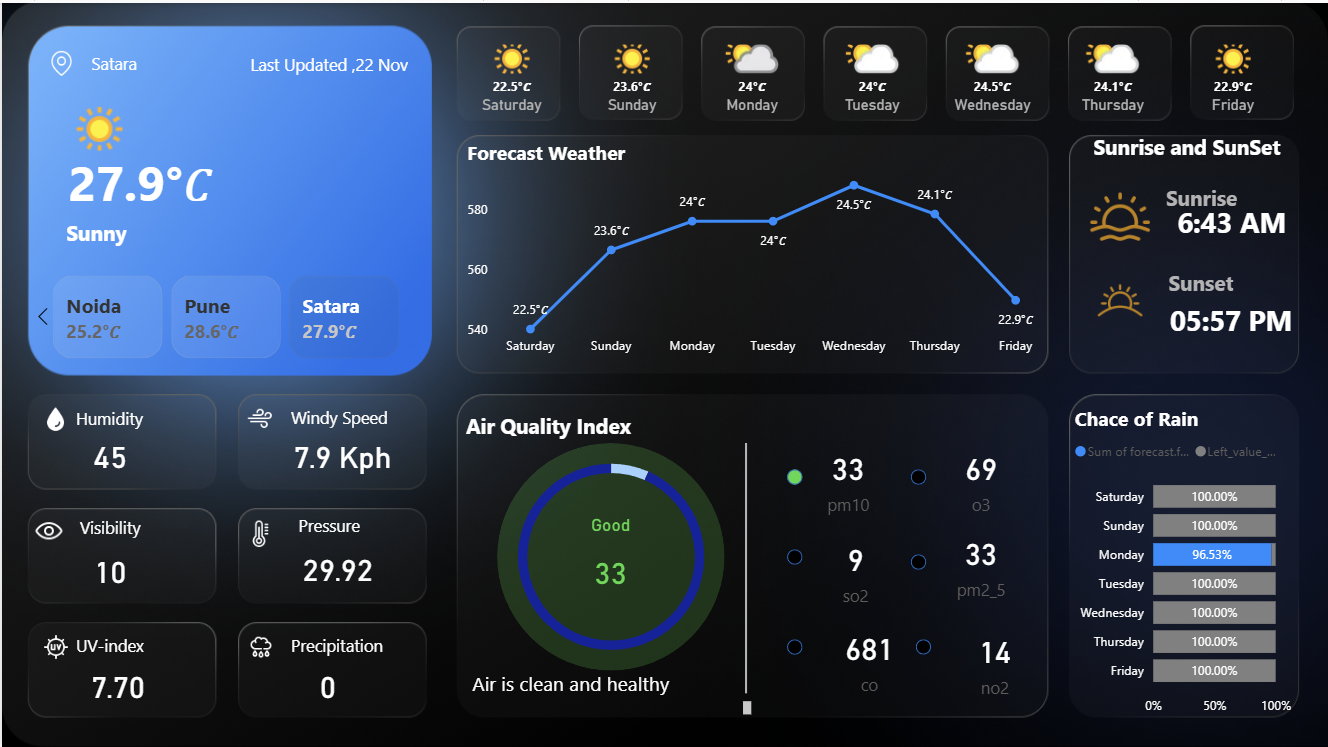

The page's visual inventory and layout, read from the dashboard file:
{"tool":"powerbi","page":{"name":"Page 1","canvas":[1280,720],"ordinal":0},"visuals":[{"type":"shape","box":[478,424.6,219.7,219.7],"z":0},{"type":"advancedSlicerVisual","fields":{"Values":["Locations.location.name"]},"box":[24.5,258.3,386.7,90.9],"z":1000},{"type":"shape","box":[41.1,125.6,186,95.4],"z":2000},{"type":"shape","box":[1.2,202.9,179.9,37.4],"z":3000},{"type":"shape","box":[45.8,39.6,124.9,35.9],"z":4000},{"type":"shape","box":[227.6,39.6,175.6,37.1],"z":5000},{"type":"image","box":[45.8,44.5,23.5,27.2],"z":6000},{"type":"cardVisual","fields":{"Data":["Min(current.current.condition.icon)"]},"box":[25.4,83.3,130.4,119.5],"z":7000},{"type":"image","box":[21,494.5,49.5,30],"z":8000},{"type":"textbox","title":"Humidity","box":[65.9,389.6,83.9,24],"z":9000},{"type":"textbox","title":"Visibility","box":[70.4,494.5,97.4,24],"z":10000},{"type":"image","box":[21,389.6,62.9,24],"z":11000},{"type":"image","box":[217.7,388.3,63.1,24.7],"z":12000},{"type":"textbox","title":"Windy Speed","box":[273.3,388.3,110.1,24.7],"z":13000},{"type":"textbox","title":"Precipitation","box":[273.3,609.7,100.2,24.7],"z":14000},{"type":"textbox","title":"UV-index","box":[66.8,609.7,84.1,24.7],"z":15000},{"type":"textbox","title":"Pressure","box":[280.7,493.4,82.9,24.7],"z":16000},{"type":"image","box":[21,609.7,63.1,24.7],"z":17000},{"type":"image","box":[218.9,609.7,63.1,24.7],"z":18000},{"type":"image","box":[218.9,499.2,62.7,25.6],"z":19000},{"type":"card","fields":{"Values":["Sum(current.current.humidity)"]},"box":[62.9,413.6,83.9,46.5],"z":20000},{"type":"card","fields":{"Values":["_measures.Wind_Speed"]},"box":[272.4,413.8,111.9,45.7],"z":21000},{"type":"card","fields":{"Values":["Sum(current.current.pressure_in)"]},"box":[281.7,523,83.9,46.5],"z":22000},{"type":"card","fields":{"Values":["Sum(current.current.vis_km)"]},"box":[62.9,524.5,83.9,46.5],"z":23000},{"type":"card","fields":{"Values":["Sum(current.current.uv)"]},"box":[70.4,635.4,83.9,46.5],"z":24000},{"type":"card","fields":{"Values":["Sum(current.current.precip_in)"]},"box":[272.7,635.4,83.9,46.5],"z":25000},{"type":"advancedSlicerVisual","fields":{"Values":["forcast_day.Day_Name"]},"box":[432.8,21.2,818,103.2],"z":26000},{"type":"lineChart","title":" Forecast Weather","fields":{"Y":["Sum(forcast_day.forecast.forecastday.day.avgtemp_c)"],"Category":["forecast_day.Day_Name"]},"box":[443.6,131.4,570.8,217.6],"z":27000},{"type":"textbox","title":"Sunrise and SunSet","box":[1048.4,125.3,201.2,35.3],"z":28000},{"type":"shape","box":[1062.6,221.7,188.6,95],"z":29000},{"type":"shape","box":[1107.2,177.1,158.4,67.7],"z":30000},{"type":"shape","box":[1078.4,152.6,158.4,67.7],"z":31000},{"type":"shape","box":[1091.4,257.7,188.6,95],"z":32000},{"type":"image","box":[1039.6,177.1,77.8,57.6],"z":33000},{"type":"image","box":[1039.6,257.7,77.8,57.6],"z":34000},{"type":"hundredPercentStackedBarChart","title":"Chace of Rain","fields":{"Category":["forecast_day.Day_Name"],"Y":["Sum(forecast_day.forecast.forecastday.day.daily_chance_of_rain)","current.Left_value_Rain"]},"box":[1029.9,388.4,219.2,307.8],"z":35000},{"type":"textbox","title":"Air Quality Index","box":[443.2,394.9,201.5,35.5],"z":36000},{"type":"card","fields":{"Values":["Sum(current.current.air_quality.pm10)"]},"box":[764.6,414.2,103.9,92],"z":37000},{"type":"card","fields":{"Values":["Sum(current.current.air_quality.o3)"]},"box":[892.9,414.2,104.8,91.9],"z":38000},{"type":"card","fields":{"Values":["Sum(current.current.air_quality.so2)"]},"box":[772,501.8,103.9,90.6],"z":39000},{"type":"card","fields":{"Values":["Sum(current.current.air_quality.pm2_5)"]},"box":[892.9,496.4,104.8,91.9],"z":40000},{"type":"card","fields":{"Values":["Sum(current.current.air_quality.co)"]},"box":[785.4,587.9,103.9,92],"z":41000},{"type":"card","fields":{"Values":["Sum(current.current.air_quality.no2)"]},"box":[905.8,589.9,104.8,91.9],"z":42000},{"type":"shape","box":[757.1,449.8,15,15],"z":43000},{"type":"shape","box":[877.4,531.5,15,15],"z":44000},{"type":"shape","box":[877.4,449.8,15,15],"z":45000},{"type":"shape","box":[757.1,527,15,15],"z":46000},{"type":"shape","box":[757.1,614.6,15,15],"z":47000},{"type":"shape","box":[881.8,614.6,14.8,14.8],"z":48000},{"type":"shape","box":[697.8,424.6,41.6,242],"z":49000},{"type":"donutChart","fields":{"Y":["Sum(current.current.air_quality.pm10)","_measures.Left_value_PM10"]},"box":[469.1,417.2,237.5,234.6],"z":50000},{"type":"card","fields":{"Values":["Sum(current.current.air_quality.pm10)"]},"box":[535.9,492.9,103.9,92],"z":51000},{"type":"textbox","box":[448.3,644.3,279.1,47.5],"z":52000}]}

Visuals, with their boxes in screenshot pixels (x1, y1, x2, y2), scaled from the page's 1280x720 canvas onto the 1328x747 screenshot:
shape: x1=496 y1=441 x2=724 y2=668
advancedSlicerVisual - Locations.location.name: x1=25 y1=268 x2=427 y2=362
shape: x1=43 y1=130 x2=236 y2=229
shape: x1=1 y1=211 x2=188 y2=249
shape: x1=48 y1=41 x2=177 y2=78
shape: x1=236 y1=41 x2=418 y2=80
image: x1=48 y1=46 x2=72 y2=74
cardVisual - Min(current.current.condition.icon): x1=26 y1=86 x2=162 y2=210
image: x1=22 y1=513 x2=73 y2=544
"Humidity" textbox: x1=68 y1=404 x2=155 y2=429
"Visibility" textbox: x1=73 y1=513 x2=174 y2=538
image: x1=22 y1=404 x2=87 y2=429
image: x1=226 y1=403 x2=291 y2=428
"Windy Speed" textbox: x1=284 y1=403 x2=398 y2=428
"Precipitation" textbox: x1=284 y1=633 x2=388 y2=658
"UV-index" textbox: x1=69 y1=633 x2=157 y2=658
"Pressure" textbox: x1=291 y1=512 x2=377 y2=538
image: x1=22 y1=633 x2=87 y2=658
image: x1=227 y1=633 x2=293 y2=658
image: x1=227 y1=518 x2=292 y2=544
card - Sum(current.current.humidity): x1=65 y1=429 x2=152 y2=477
card - _measures.Wind_Speed: x1=283 y1=429 x2=399 y2=477
card - Sum(current.current.pressure_in): x1=292 y1=543 x2=379 y2=591
card - Sum(current.current.vis_km): x1=65 y1=544 x2=152 y2=592
card - Sum(current.current.uv): x1=73 y1=659 x2=160 y2=707
card - Sum(current.current.precip_in): x1=283 y1=659 x2=370 y2=707
advancedSlicerVisual - forcast_day.Day_Name: x1=449 y1=22 x2=1298 y2=129
" Forecast Weather" lineChart: x1=460 y1=136 x2=1052 y2=362
"Sunrise and SunSet" textbox: x1=1088 y1=130 x2=1296 y2=167
shape: x1=1102 y1=230 x2=1298 y2=329
shape: x1=1149 y1=184 x2=1313 y2=254
shape: x1=1119 y1=158 x2=1283 y2=229
shape: x1=1132 y1=267 x2=1327 y2=366
image: x1=1079 y1=184 x2=1159 y2=244
image: x1=1079 y1=267 x2=1159 y2=327
"Chace of Rain" hundredPercentStackedBarChart: x1=1069 y1=403 x2=1296 y2=722
"Air Quality Index" textbox: x1=460 y1=410 x2=669 y2=447
card - Sum(current.current.air_quality.pm10): x1=793 y1=430 x2=901 y2=525
card - Sum(current.current.air_quality.o3): x1=926 y1=430 x2=1035 y2=525
card - Sum(current.current.air_quality.so2): x1=801 y1=521 x2=909 y2=615
card - Sum(current.current.air_quality.pm2_5): x1=926 y1=515 x2=1035 y2=610
card - Sum(current.current.air_quality.co): x1=815 y1=610 x2=923 y2=705
card - Sum(current.current.air_quality.no2): x1=940 y1=612 x2=1048 y2=707
shape: x1=785 y1=467 x2=801 y2=482
shape: x1=910 y1=551 x2=926 y2=567
shape: x1=910 y1=467 x2=926 y2=482
shape: x1=785 y1=547 x2=801 y2=562
shape: x1=785 y1=638 x2=801 y2=653
shape: x1=915 y1=638 x2=930 y2=653
shape: x1=724 y1=441 x2=767 y2=692
donutChart - Sum(current.current.air_quality.pm10) x _measures.Left_value_PM10: x1=487 y1=433 x2=733 y2=676
card - Sum(current.current.air_quality.pm10): x1=556 y1=511 x2=664 y2=607
textbox: x1=465 y1=668 x2=755 y2=718
